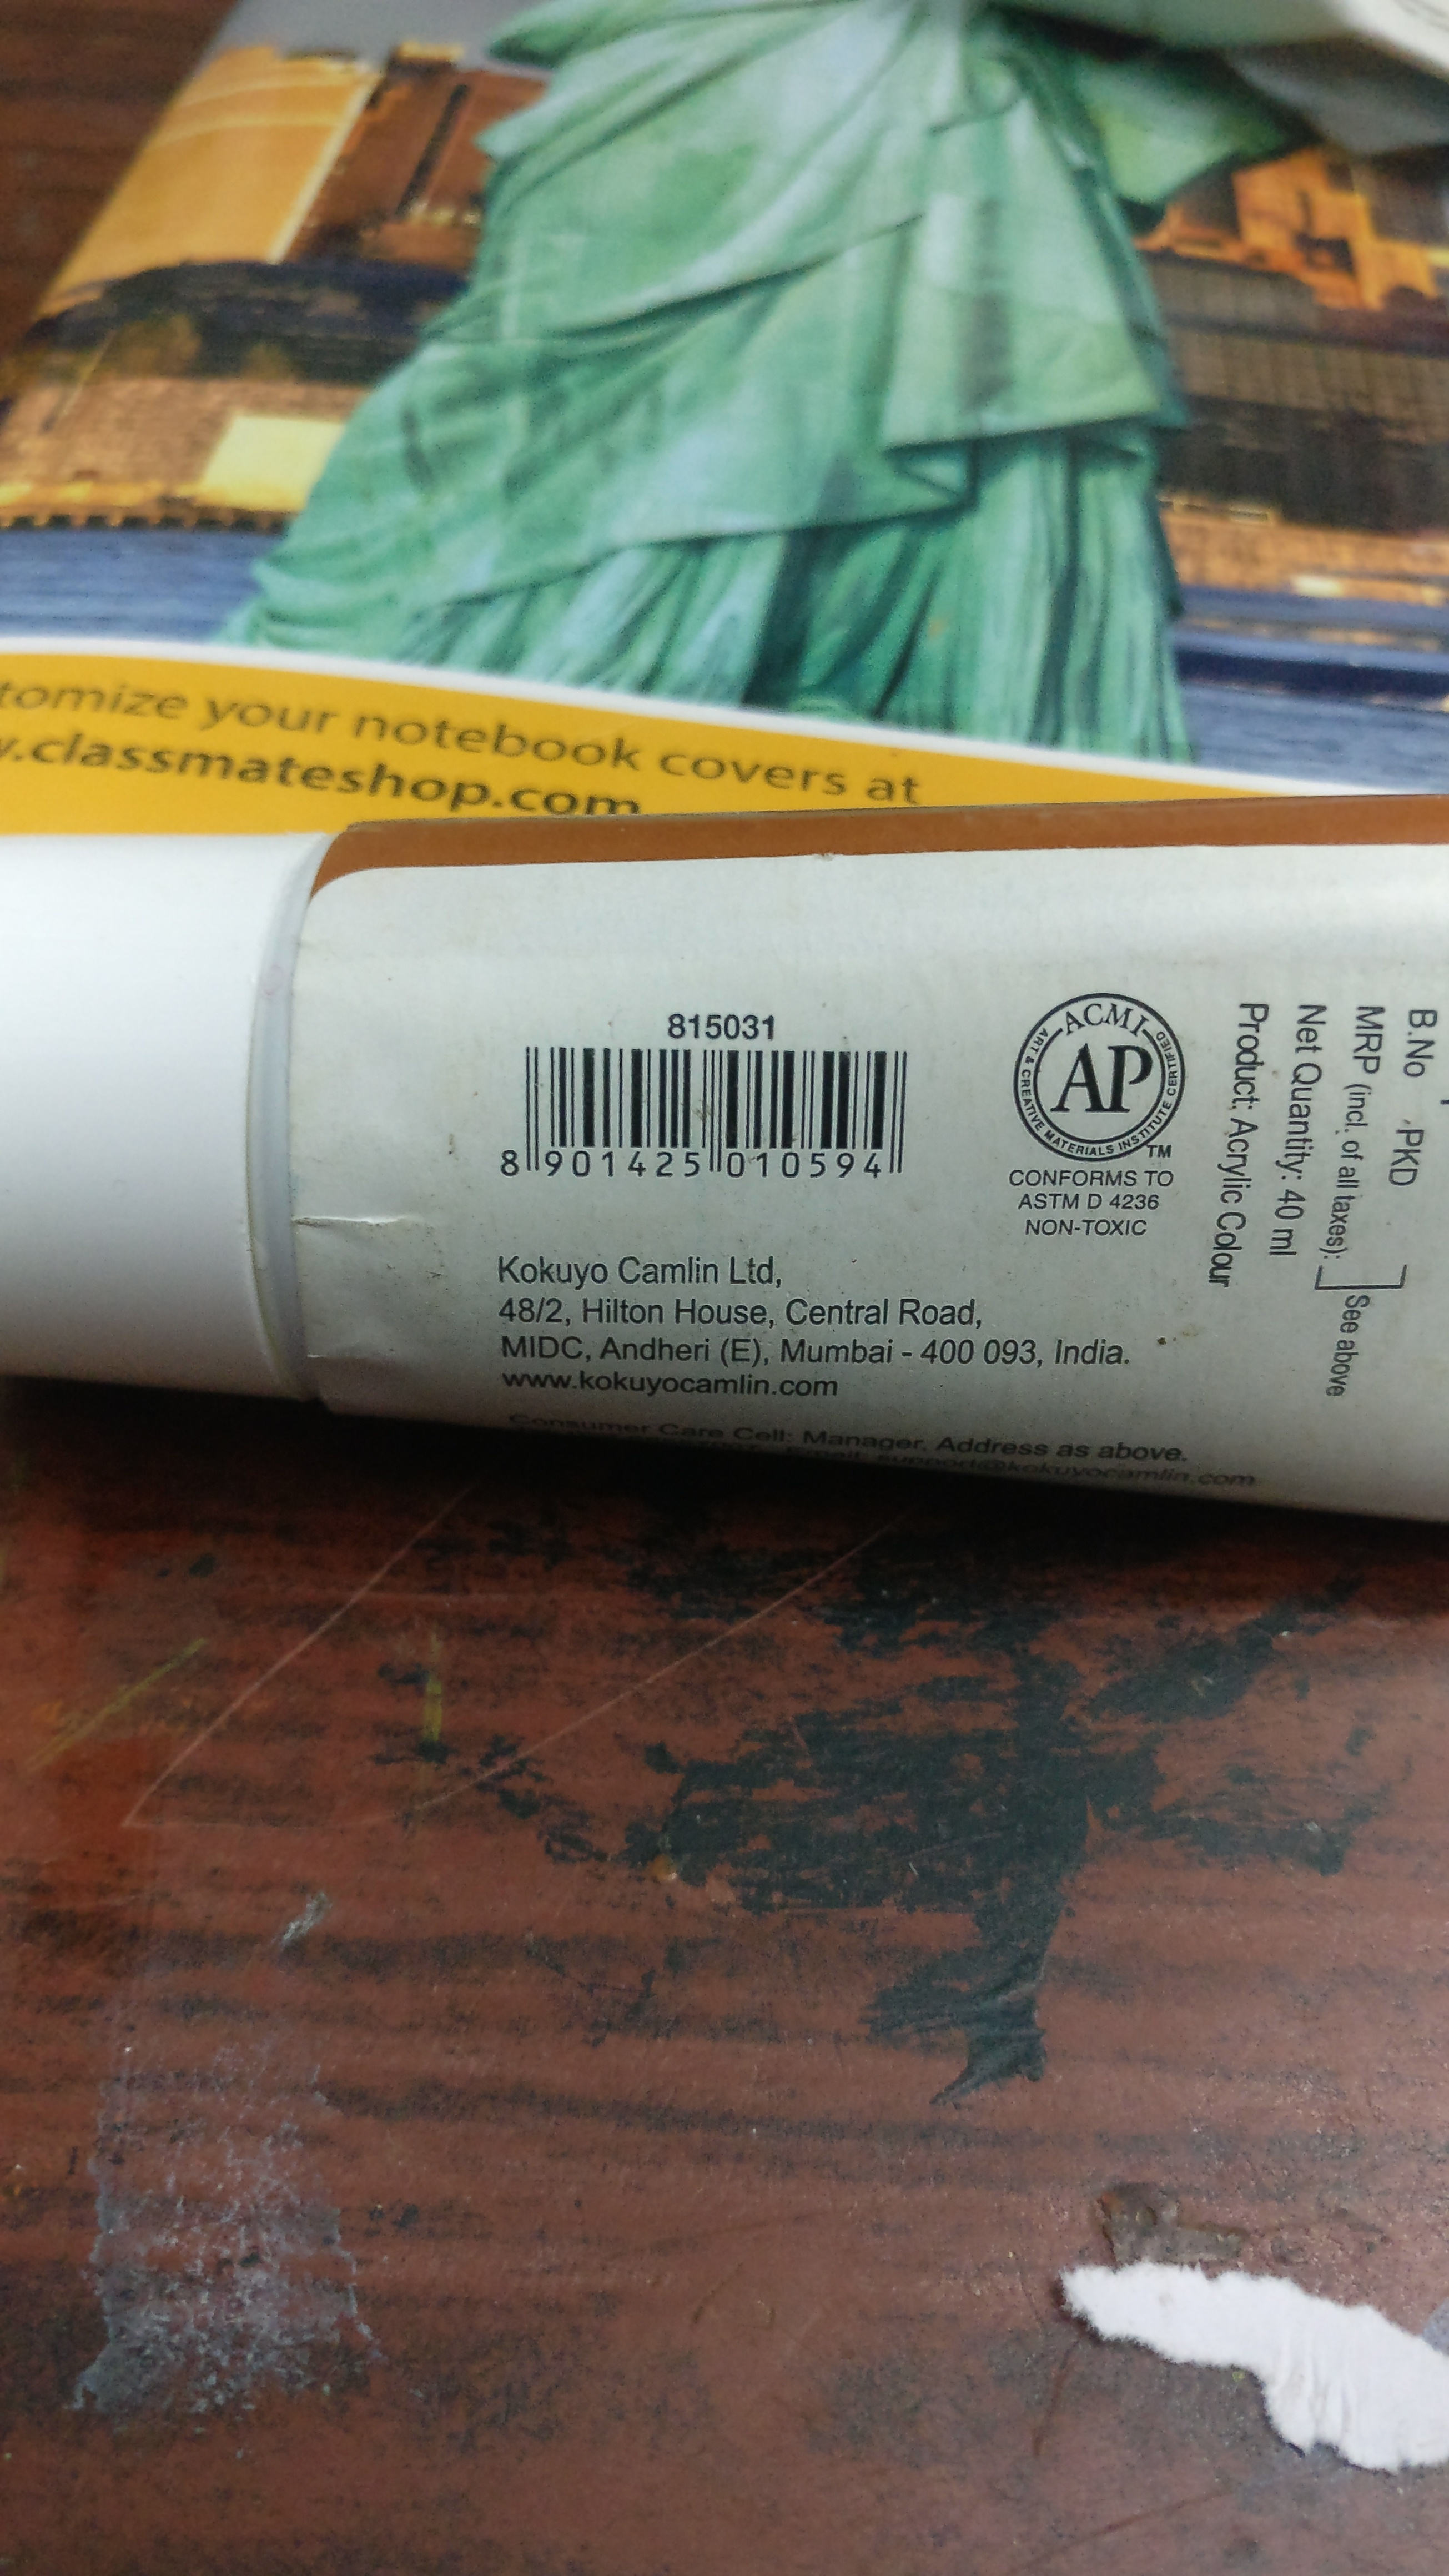barcode: (448, 994, 954, 1207)
